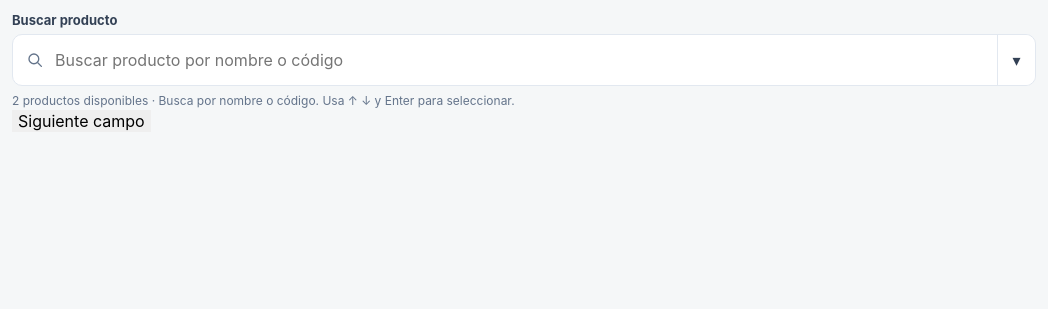
Scenario: shows complete long names with stock and price and keeps the selection visible
Click the button named "Abrir productos" at x=1016, y=60, box [997,35,1035,85]
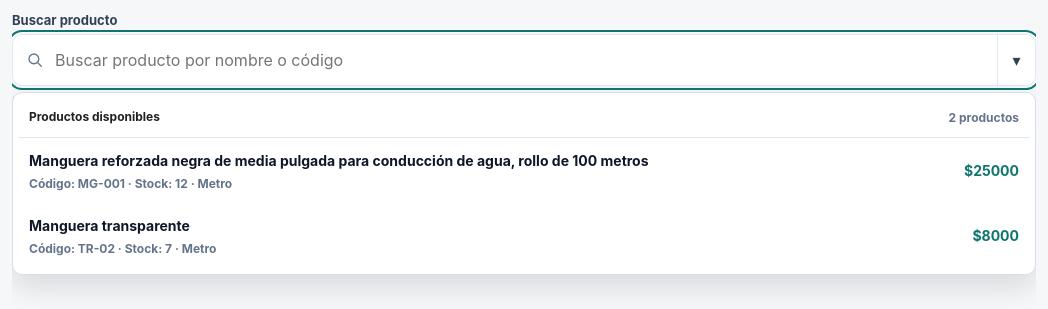
Result: the number of options is 2
Result: the text "$25000" is shown at [964,162,1019,179]
Result: the text "Código: MG-001 · Stock: 12 · Metro" is shown at [29,176,232,191]
Click the option named "Manguera reforzada negra de media pulgada para conducción de agua, rollo de 100 metros" at x=524, y=170, box [19,138,1029,203]
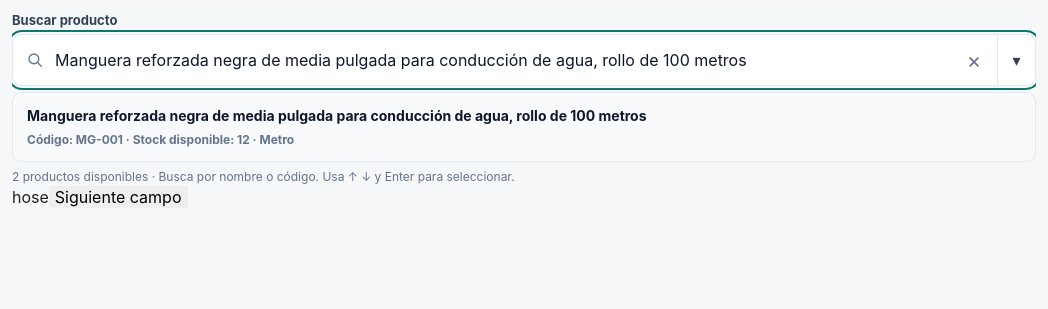
Result: the text "Manguera reforzada negra de media pulgada para conducción de agua, rollo de 100 metros" is shown at [27,107,647,124]
Result: the text "Código: MG-001 · Stock disponible: 12 · Metro" is shown at [27,132,294,147]
Result: the list is gone
